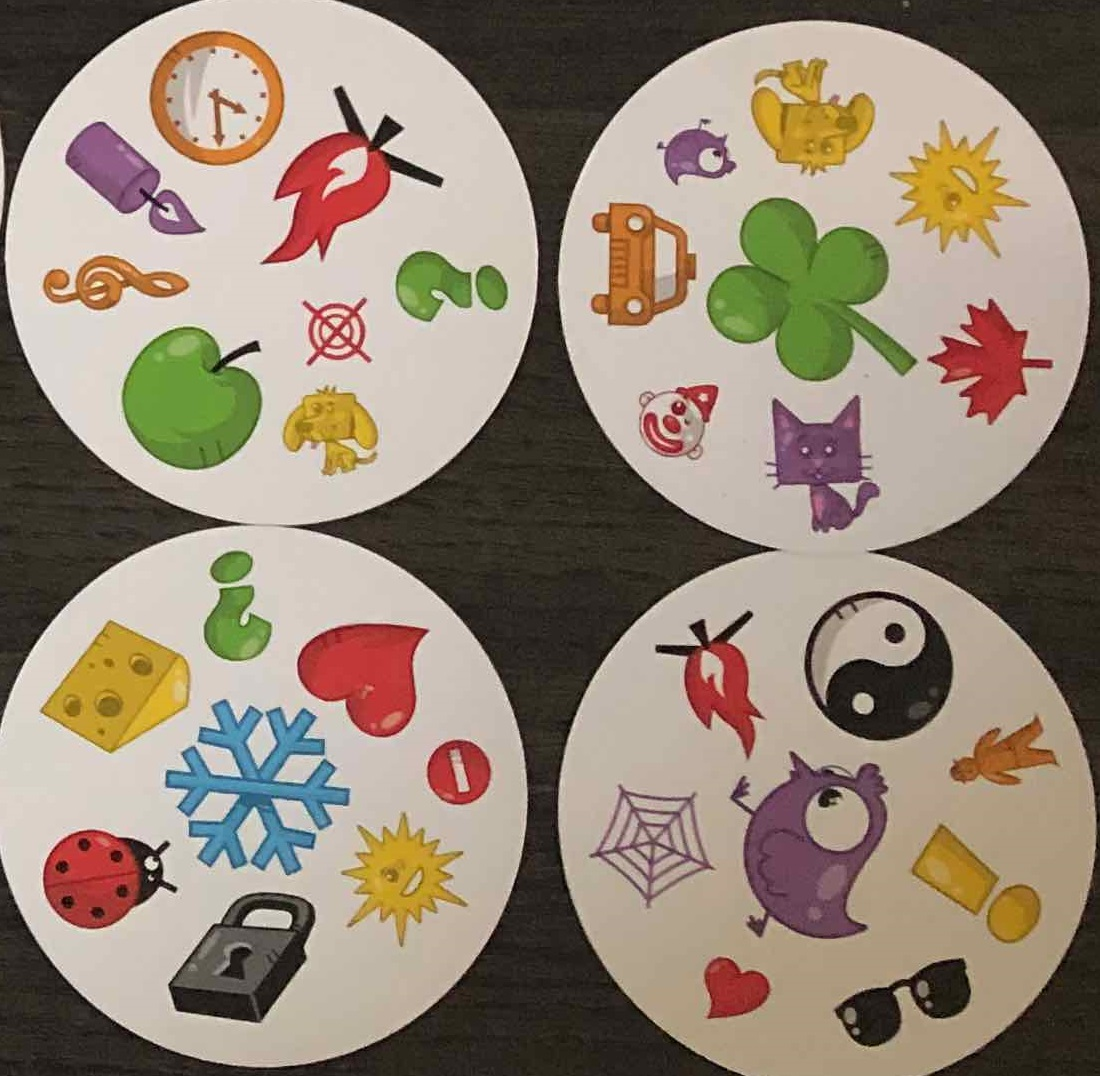bonhomme: (946, 710, 1060, 800)
bougie: (60, 115, 206, 244)
cadenas: (167, 889, 325, 1026)
chat: (760, 395, 885, 540)
chien: (741, 47, 883, 182), (272, 371, 390, 482)
cible: (286, 291, 373, 376)
clown: (633, 367, 717, 468)
coccinelle: (37, 820, 179, 932)
coeur: (291, 622, 433, 739), (696, 949, 781, 1028)
feu: (254, 86, 449, 270), (650, 609, 771, 761)
feuille: (926, 297, 1055, 429)
flocon: (167, 695, 357, 875)
fromage: (28, 620, 201, 749)
horloge: (141, 22, 290, 168)
lunette: (825, 953, 982, 1053)
note: (37, 248, 185, 323)
oiseau: (725, 752, 902, 943), (644, 113, 740, 191)
point_exclamation: (900, 819, 1044, 951)
point_interrogation: (386, 245, 519, 331), (190, 542, 278, 669)
pomme: (127, 324, 268, 478)
sens_interdit: (420, 731, 490, 814)
soleil: (887, 111, 1035, 263), (337, 810, 476, 954)
toile: (583, 773, 720, 922)
trefle: (701, 197, 922, 393)
voiture: (577, 193, 698, 330)
ying_yang: (800, 584, 958, 744)
